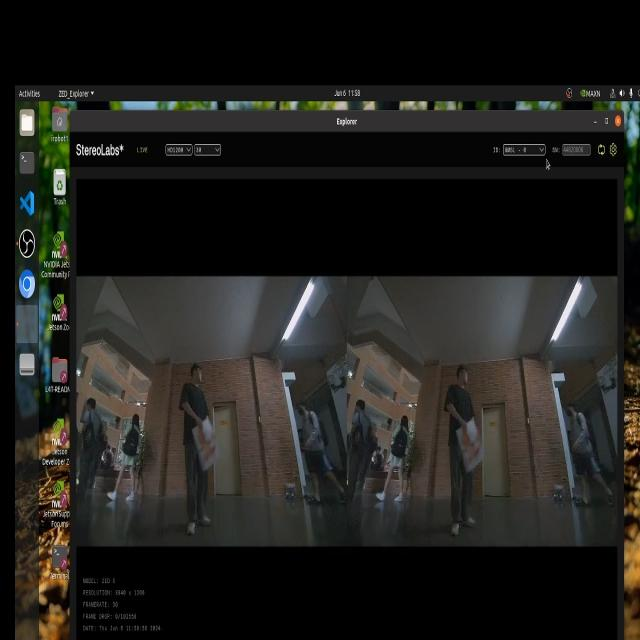red: (461, 425, 485, 467), (195, 424, 219, 465)
